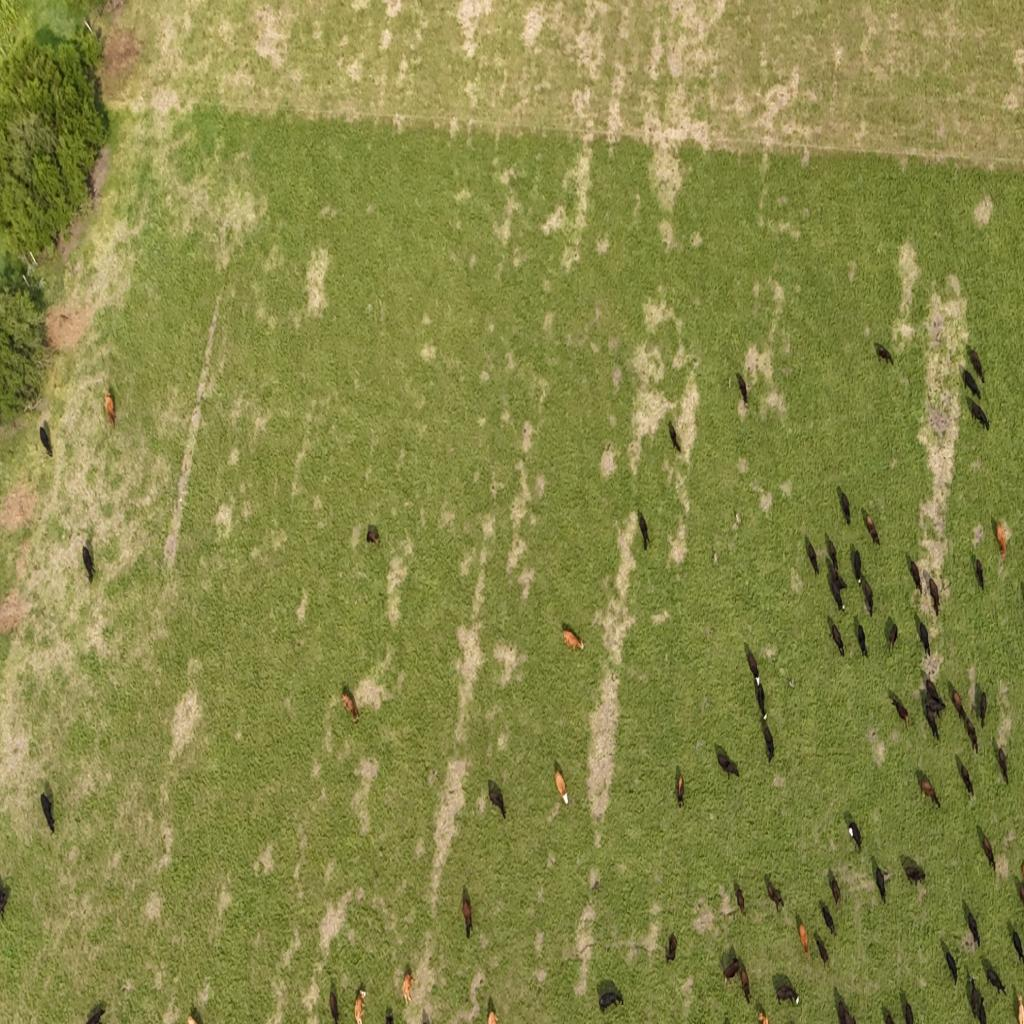cow: (982, 958, 1007, 996), (598, 980, 625, 1015), (955, 755, 976, 800), (918, 769, 941, 810), (959, 708, 979, 754), (772, 973, 799, 1007), (714, 743, 738, 781), (964, 897, 981, 950), (900, 854, 926, 888), (337, 684, 358, 726), (888, 691, 910, 731), (978, 823, 996, 871), (486, 779, 506, 820), (966, 397, 990, 431), (1007, 920, 1024, 968), (765, 874, 785, 914), (941, 940, 959, 984), (872, 858, 888, 905), (906, 554, 922, 598), (846, 813, 863, 854), (967, 346, 985, 384), (828, 618, 845, 658), (961, 366, 981, 400), (721, 951, 741, 985), (744, 642, 760, 684), (915, 615, 931, 657), (760, 718, 775, 762), (460, 886, 472, 940), (950, 685, 968, 721), (863, 510, 880, 547), (860, 574, 874, 618), (995, 742, 1009, 786), (41, 791, 55, 834), (561, 624, 583, 651), (804, 535, 818, 577), (884, 617, 899, 656), (555, 768, 570, 806), (820, 899, 835, 937), (827, 869, 841, 909), (837, 486, 851, 526), (103, 389, 116, 432), (814, 930, 829, 967), (927, 575, 940, 617), (638, 510, 651, 551), (40, 421, 54, 458), (401, 968, 415, 1005), (995, 521, 1008, 560), (851, 545, 863, 587), (968, 976, 980, 1018), (875, 343, 895, 368), (924, 679, 944, 704), (856, 619, 868, 660), (0, 876, 11, 920), (82, 543, 94, 583), (668, 420, 682, 454), (926, 709, 940, 743), (354, 985, 366, 1024), (755, 678, 766, 720), (830, 582, 845, 612), (675, 764, 685, 808), (85, 1004, 106, 1024), (329, 982, 339, 1024), (798, 921, 809, 958), (735, 878, 745, 916), (974, 555, 984, 593), (737, 373, 748, 406), (740, 968, 750, 1004), (830, 568, 846, 590), (365, 524, 380, 547), (666, 932, 677, 963), (926, 699, 946, 716), (828, 538, 838, 571), (980, 690, 988, 728), (188, 1005, 202, 1024), (979, 995, 986, 1024), (1019, 877, 1024, 910), (1019, 993, 1024, 1024), (1021, 855, 1024, 887)
